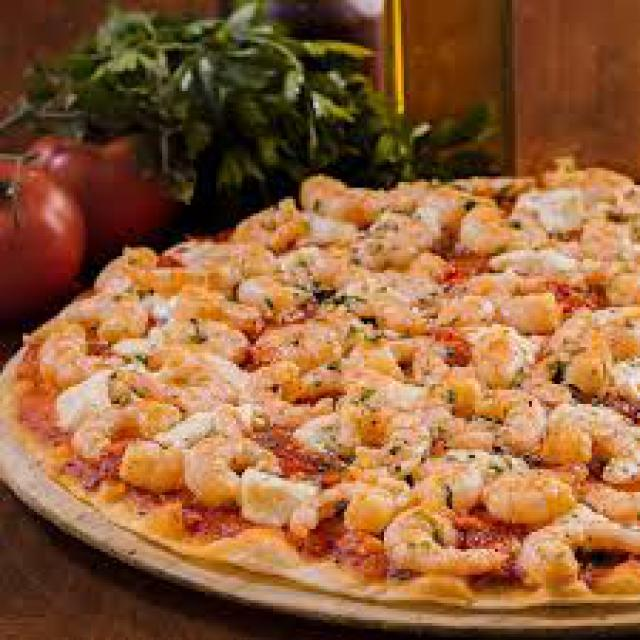camarao: (380, 500, 511, 583), (181, 433, 279, 520), (546, 404, 637, 486)
pizza: (40, 179, 637, 637)
